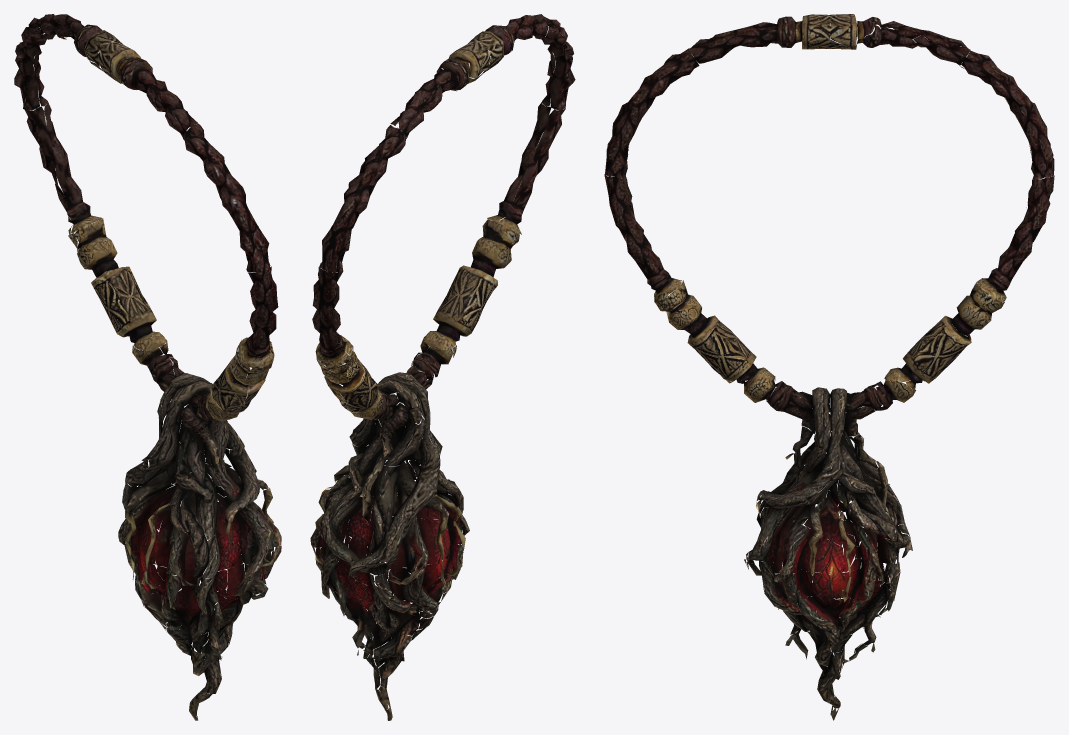
File: acc_root_heart.glb
The picture shows the model from 3 angles, left to right: view 1: azimuth 30°, elevation 25°; view 2: azimuth 150°, elevation 25°; view 3: azimuth 270°, elevation 25°; orthographic projection. The views are drawn at different scales.
Visible parts, largest first — view 1: tripo_node_cd4b23df-2b4d-4f8f-b7ca-c868de6719f3; view 2: tripo_node_cd4b23df-2b4d-4f8f-b7ca-c868de6719f3; view 3: tripo_node_cd4b23df-2b4d-4f8f-b7ca-c868de6719f3.
Boxes of the visible parts, x1=… form: tripo_node_cd4b23df-2b4d-4f8f-b7ca-c868de6719f3: x1=14, y1=14, x2=281, y2=720; tripo_node_cd4b23df-2b4d-4f8f-b7ca-c868de6719f3: x1=310, y1=14, x2=575, y2=720; tripo_node_cd4b23df-2b4d-4f8f-b7ca-c868de6719f3: x1=604, y1=14, x2=1054, y2=720.
Bounding box in the file's own units: 0.2444 × 0.9786 × 0.6009.
Materials: 1 (1 with a texture image).
